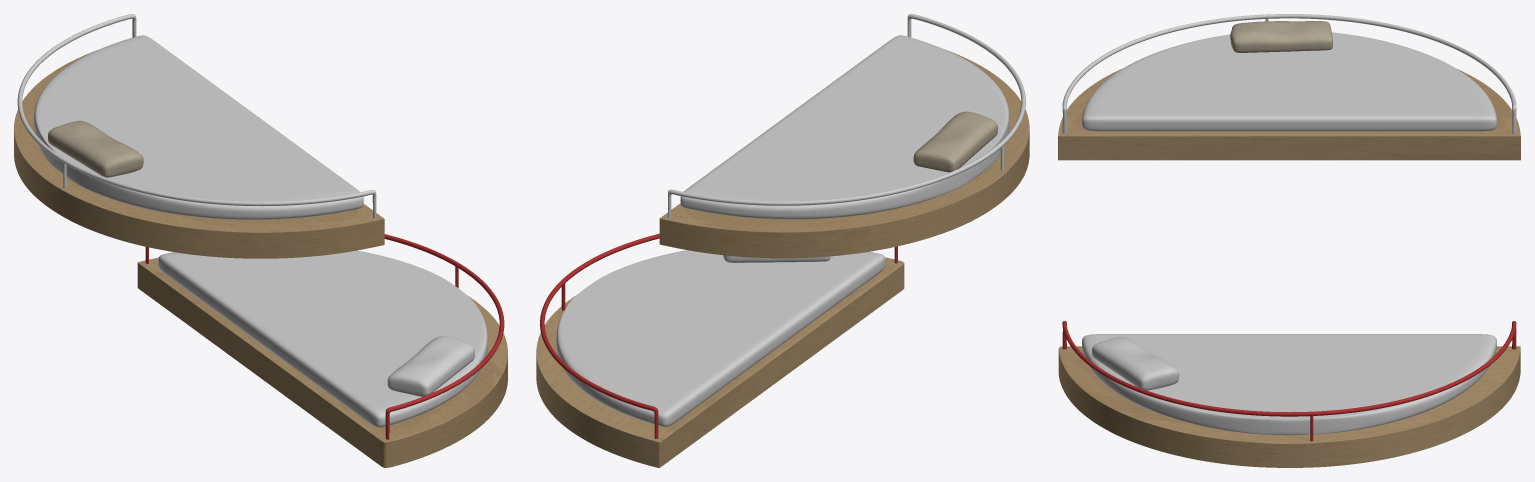
File: bed.gltf
3 views of the same model, side by side, from view 1: azimuth 30°, elevation 25°; view 2: azimuth 150°, elevation 25°; view 3: azimuth 270°, elevation 25° (orthographic). The views are drawn at different scales.
Parts seen in each view (by area): view 1: colchon B, colchon A, Cama A, Cama B, tubo A, Almohada A, almodada B, Tubo B; view 2: colchon A, colchon B, Cama A, Cama B, tubo A, Almohada A, Tubo B, almodada B; view 3: colchon B, colchon A, Cama B, Cama A, Almohada A, Tubo B, tubo A, almodada B.
Boxes of the visible parts, bbox=[...] form: colchon B: bbox=[34, 35, 363, 219]; colchon A: bbox=[158, 250, 487, 427]; Cama A: bbox=[14, 51, 384, 258]; Cama B: bbox=[137, 257, 507, 467]; tubo A: bbox=[17, 14, 376, 218]; Almohada A: bbox=[48, 120, 143, 177]; almodada B: bbox=[387, 336, 474, 396]; Tubo B: bbox=[145, 234, 504, 439]; colchon A: bbox=[556, 250, 885, 426]; colchon B: bbox=[680, 35, 1009, 219]; Cama A: bbox=[659, 49, 1029, 258]; Cama B: bbox=[536, 257, 904, 467]; tubo A: bbox=[668, 14, 1025, 218]; Almohada A: bbox=[913, 111, 997, 172]; Tubo B: bbox=[540, 233, 897, 438]; almodada B: bbox=[723, 255, 830, 262]; colchon B: bbox=[1082, 32, 1496, 131]; colchon A: bbox=[1082, 334, 1496, 434]; Cama B: bbox=[1058, 346, 1520, 467]; Cama A: bbox=[1058, 68, 1520, 160]; Almohada A: bbox=[1230, 21, 1332, 52]; Tubo B: bbox=[1062, 321, 1516, 441]; tubo A: bbox=[1062, 14, 1516, 133]; almodada B: bbox=[1092, 336, 1179, 390].
Size of the model in its own units: 29.02 by 18.51 by 29.06.
